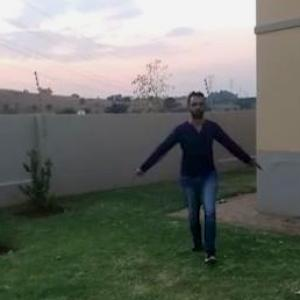land: (136, 93, 249, 237)
